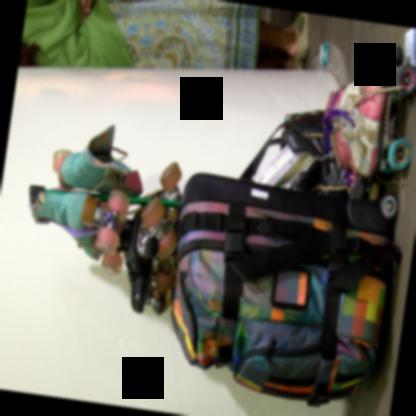backpack: (166, 167, 405, 416)
